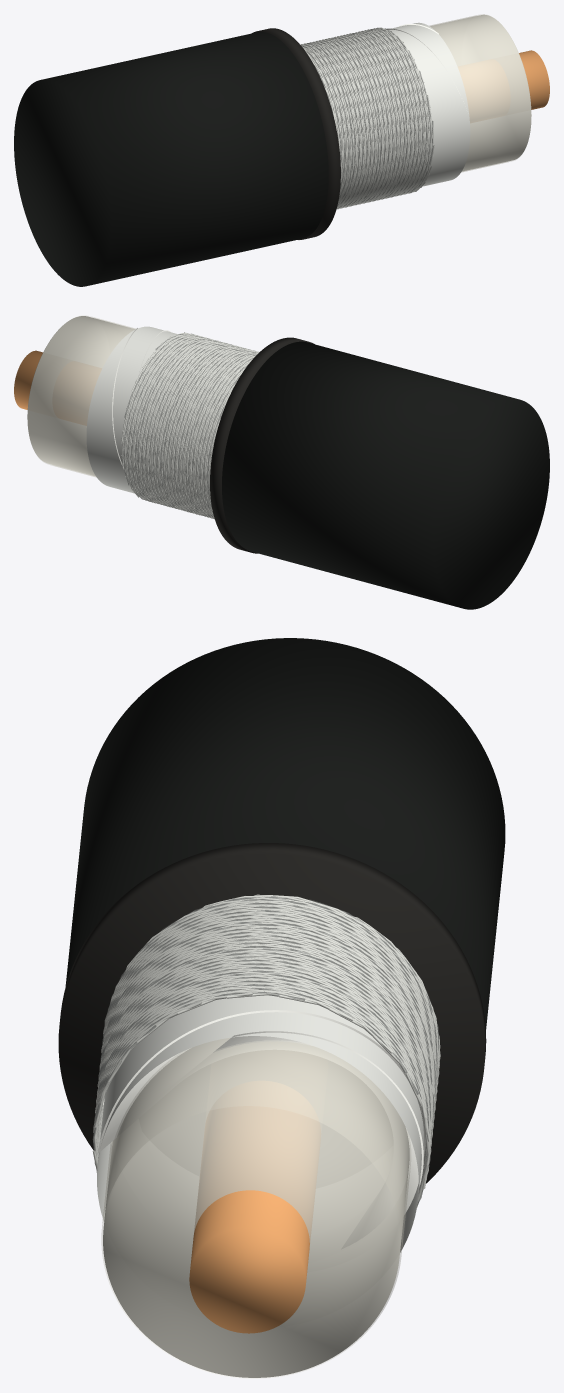
File: rf-belden9913f.glb
The picture shows the model from 3 angles, top to bottom: view 1: azimuth 30°, elevation 25°; view 2: azimuth 150°, elevation 25°; view 3: azimuth 270°, elevation 25°; orthographic projection. The views are drawn at different scales.
Parts seen in each view (by area): view 1: matte black pvc jacket body, smooth dielectric skin, gas injected foam dielectric, duobond foil sleeve, jacket cut lip, braid left hand carrier 14, braid left hand carrier 17, braid left hand carrier 15, braid left hand carrier 11, braid left hand carrier 12, braid left hand carrier 18, solid center conductor continuous (+34 smaller); view 2: matte black pvc jacket body, smooth dielectric skin, gas injected foam dielectric, duobond foil sleeve, jacket cut lip, braid left hand carrier 08, braid left hand carrier 09, braid left hand carrier 11, braid left hand carrier 05, braid left hand carrier 06, braid left hand carrier 12, braid left hand carrier 03 (+34 smaller); view 3: matte black pvc jacket body, gas injected foam dielectric, jacket cut lip, solid center conductor continuous, smooth dielectric skin, duobond foil sleeve, subtle foil wrap lap, braid left hand carrier 20, braid left hand carrier 12, braid left hand carrier 18, braid left hand carrier 06, braid left hand carrier 09 (+15 smaller).
Part boxes in pixels (bbox=[...]): matte black pvc jacket body: bbox=[14, 32, 328, 286]; smooth dielectric skin: bbox=[429, 14, 530, 172]; gas injected foam dielectric: bbox=[430, 14, 531, 171]; duobond foil sleeve: bbox=[341, 22, 470, 186]; jacket cut lip: bbox=[252, 28, 340, 239]; braid left hand carrier 14: bbox=[301, 27, 424, 207]; braid left hand carrier 17: bbox=[300, 32, 428, 206]; braid left hand carrier 15: bbox=[301, 27, 425, 205]; braid left hand carrier 11: bbox=[303, 28, 420, 208]; braid left hand carrier 12: bbox=[302, 28, 421, 206]; braid left hand carrier 18: bbox=[303, 32, 429, 206]; solid center conductor continuous: bbox=[519, 50, 549, 109]; matte black pvc jacket body: bbox=[222, 341, 549, 609]; smooth dielectric skin: bbox=[28, 315, 135, 477]; gas injected foam dielectric: bbox=[27, 316, 134, 476]; duobond foil sleeve: bbox=[86, 326, 210, 493]; jacket cut lip: bbox=[210, 337, 314, 553]; braid left hand carrier 08: bbox=[126, 336, 255, 515]; braid left hand carrier 09: bbox=[124, 336, 250, 517]; braid left hand carrier 11: bbox=[122, 335, 251, 517]; braid left hand carrier 05: bbox=[129, 337, 255, 515]; braid left hand carrier 06: bbox=[128, 337, 254, 513]; braid left hand carrier 12: bbox=[121, 334, 252, 518]; braid left hand carrier 03: bbox=[132, 337, 258, 514]; matte black pvc jacket body: bbox=[65, 638, 505, 1028]; gas injected foam dielectric: bbox=[103, 1037, 409, 1377]; jacket cut lip: bbox=[58, 843, 486, 1183]; solid center conductor continuous: bbox=[189, 1106, 320, 1333]; smooth dielectric skin: bbox=[101, 1038, 410, 1378]; duobond foil sleeve: bbox=[97, 995, 423, 1252]; subtle foil wrap lap: bbox=[97, 1010, 425, 1248]; braid left hand carrier 20: bbox=[93, 897, 439, 1165]; braid left hand carrier 12: bbox=[95, 913, 439, 1145]; braid left hand carrier 18: bbox=[93, 896, 439, 1143]; braid left hand carrier 06: bbox=[95, 905, 438, 1163]; braid left hand carrier 09: bbox=[95, 909, 438, 1207].
Bounding box in the file's own units: 6.57 × 2.6 × 2.72.
